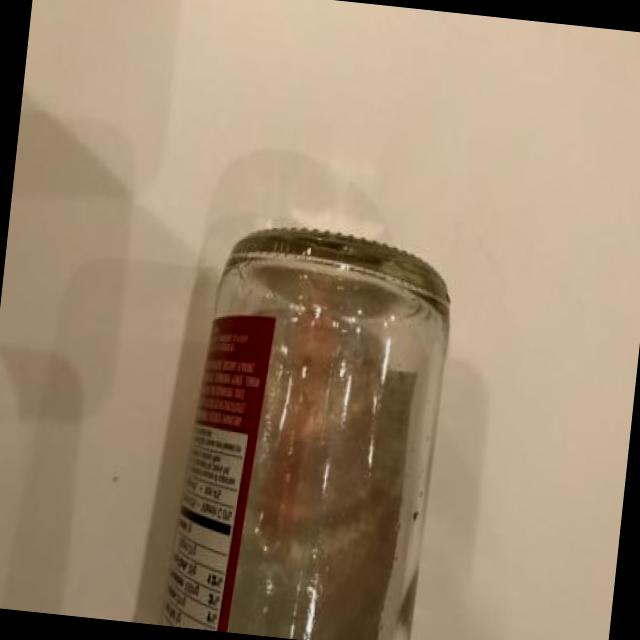chai_thuy_tinh: (158, 227, 448, 640)
